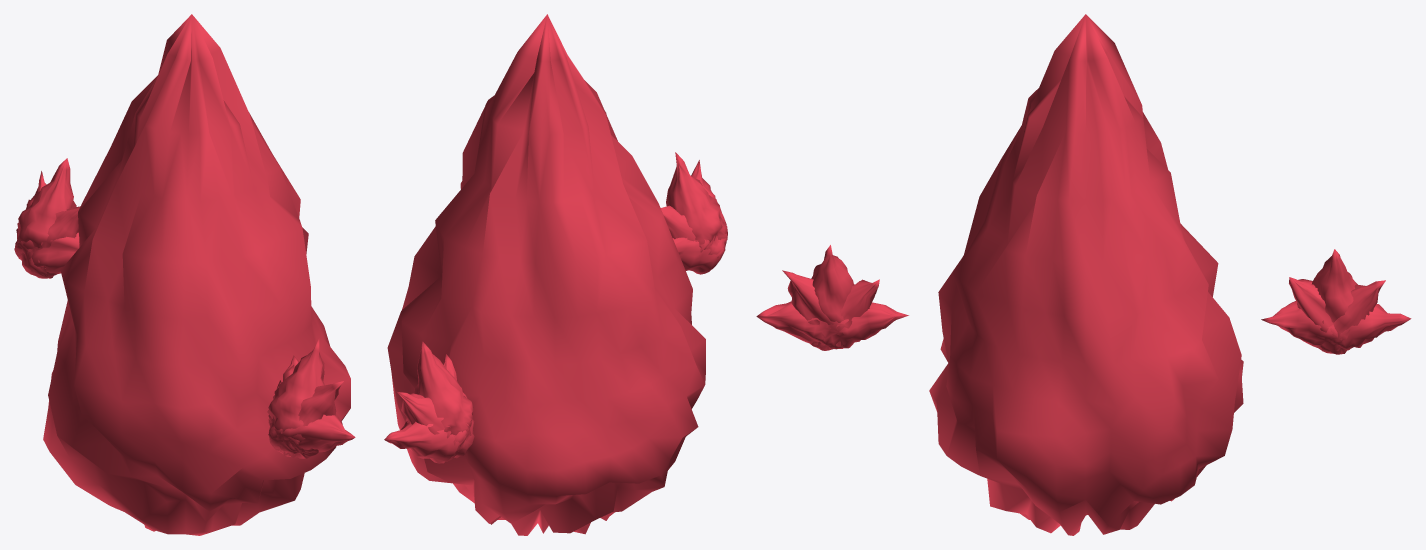
File: FireSpirit_Normal.gltf
The picture shows the model from 3 angles, left to right: view 1: azimuth 30°, elevation 25°; view 2: azimuth 150°, elevation 25°; view 3: azimuth 270°, elevation 25°; orthographic projection.
Visible parts, largest first — view 1: Sphere, Sphere.003, Sphere.001; view 2: Sphere, Sphere.001, Sphere.003; view 3: Sphere, Sphere.003, Sphere.001.
Part boxes in pixels (x1=…): Sphere: x1=43, y1=14, x2=350, y2=535; Sphere.003: x1=267, y1=338, x2=355, y2=458; Sphere.001: x1=14, y1=158, x2=80, y2=278; Sphere: x1=387, y1=14, x2=705, y2=535; Sphere.001: x1=384, y1=341, x2=474, y2=463; Sphere.003: x1=660, y1=152, x2=727, y2=274; Sphere: x1=929, y1=14, x2=1243, y2=535; Sphere.003: x1=756, y1=245, x2=908, y2=350; Sphere.001: x1=1261, y1=249, x2=1411, y2=354.
Bounding box in the file's own units: 9.76 × 17.59 × 20.66.
